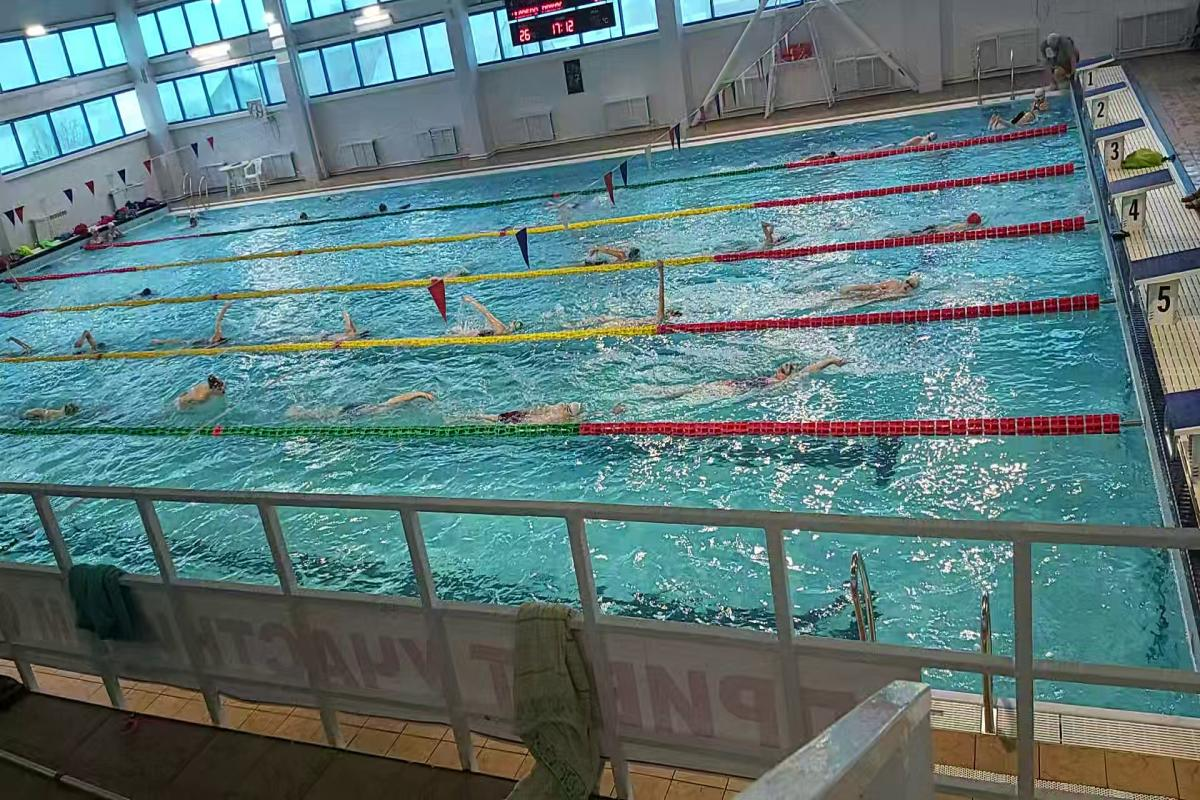swimmer: (671, 344, 861, 405), (286, 386, 440, 418), (472, 388, 609, 422), (830, 269, 930, 314), (619, 278, 697, 326), (455, 289, 534, 335), (158, 306, 240, 350), (158, 370, 240, 412), (10, 393, 102, 428), (906, 205, 991, 236), (581, 233, 661, 264), (322, 306, 374, 340), (746, 218, 800, 249), (64, 328, 118, 351)
